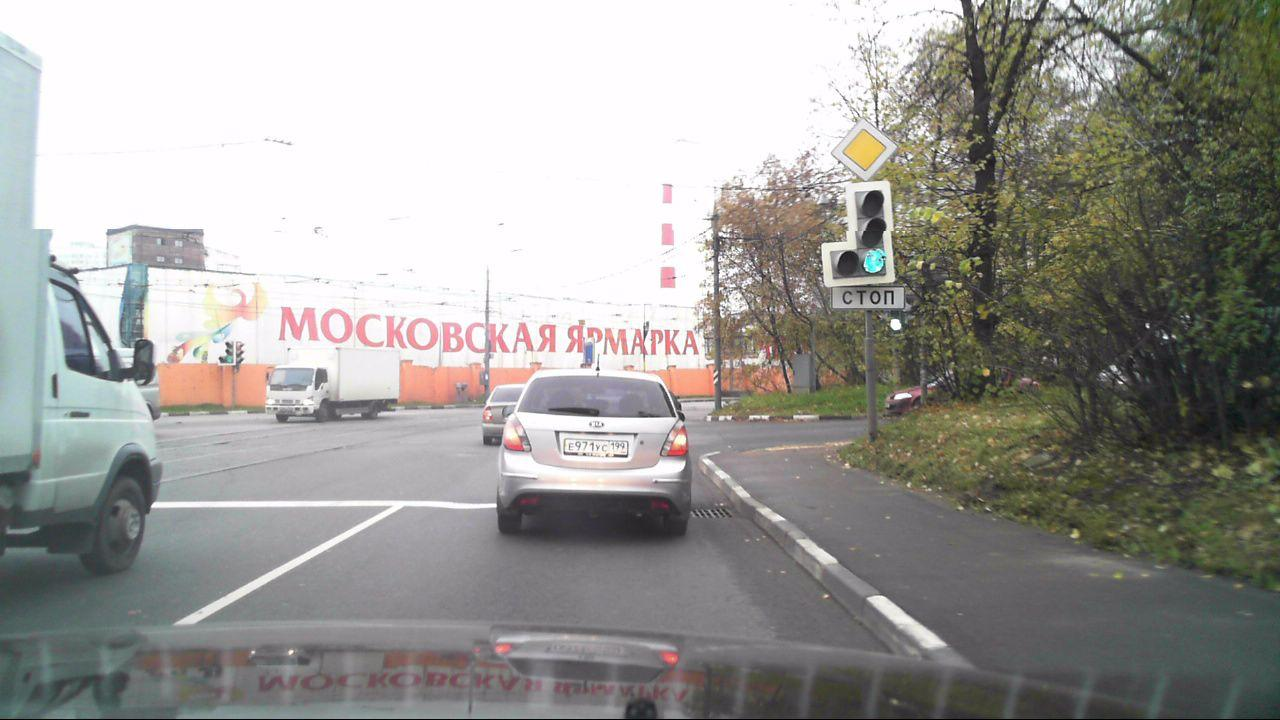2_1: (834, 124, 896, 180)
6_16: (832, 287, 905, 310)
